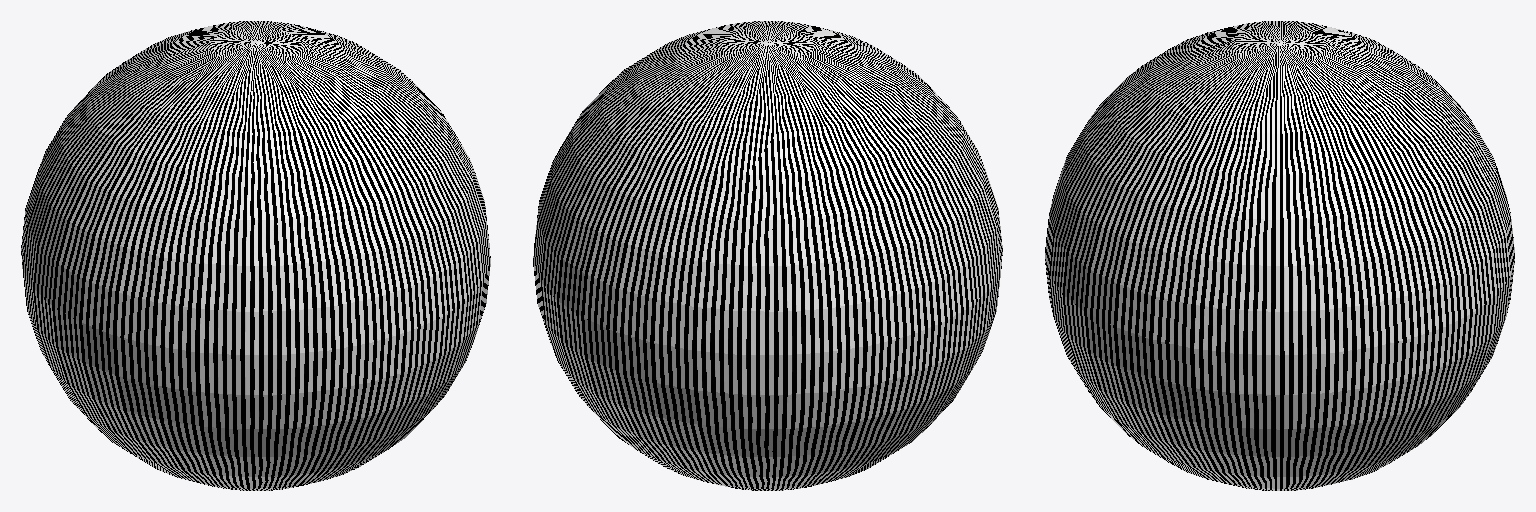
The picture shows the model from 3 angles: view 1: azimuth 30°, elevation 25°; view 2: azimuth 150°, elevation 25°; view 3: azimuth 270°, elevation 25°; orthographic projection.
Visible parts, largest first — view 1: Sphere; view 2: Sphere; view 3: Sphere.
Boxes of the visible parts, box(x1,y1,x2,y2) form: Sphere: box(21, 21, 490, 490); Sphere: box(533, 21, 1002, 490); Sphere: box(1045, 21, 1514, 490).
Size of the model in its own units: 1.83 by 1.83 by 1.83.
1 materials, 1 textured.